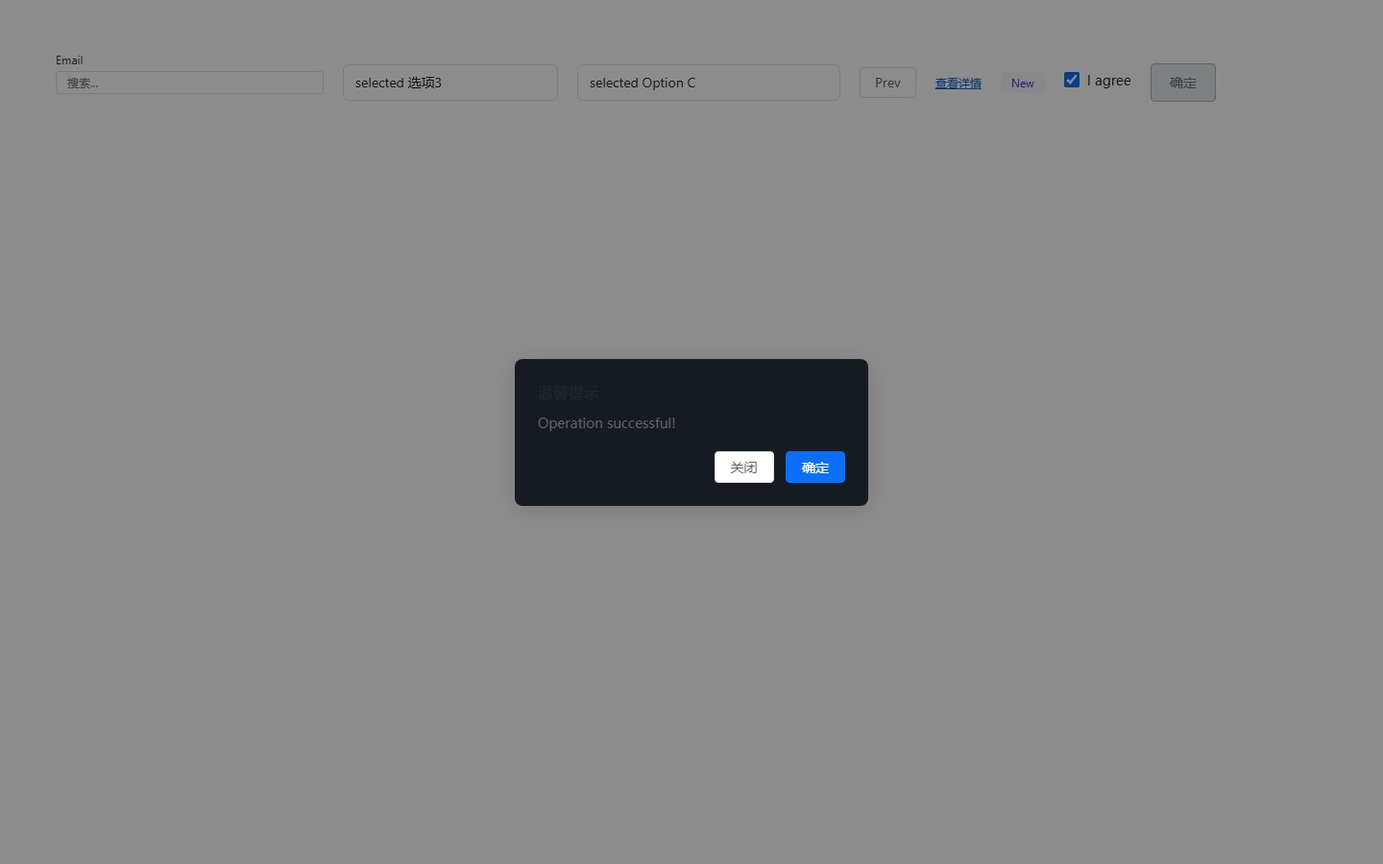button: (1150, 63, 1216, 102), (714, 451, 774, 482), (786, 451, 845, 482), (860, 67, 916, 98), (1001, 72, 1045, 93)
checkbox: (1064, 72, 1079, 87)
icon: (1087, 71, 1131, 89)
input: (56, 71, 324, 94)
link: (935, 75, 981, 90)
modal: (0, 0, 1383, 864)
radio: (1064, 71, 1131, 89)
select: (577, 64, 840, 100), (343, 64, 558, 100)
